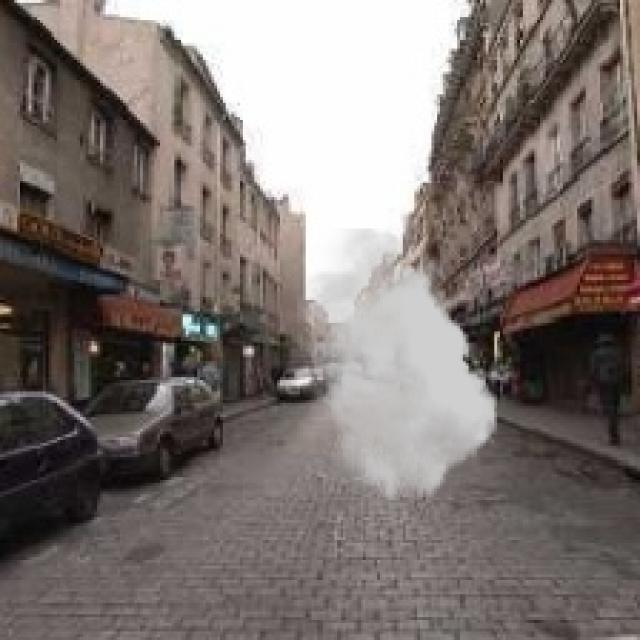Smoke: (297, 228, 497, 501)
